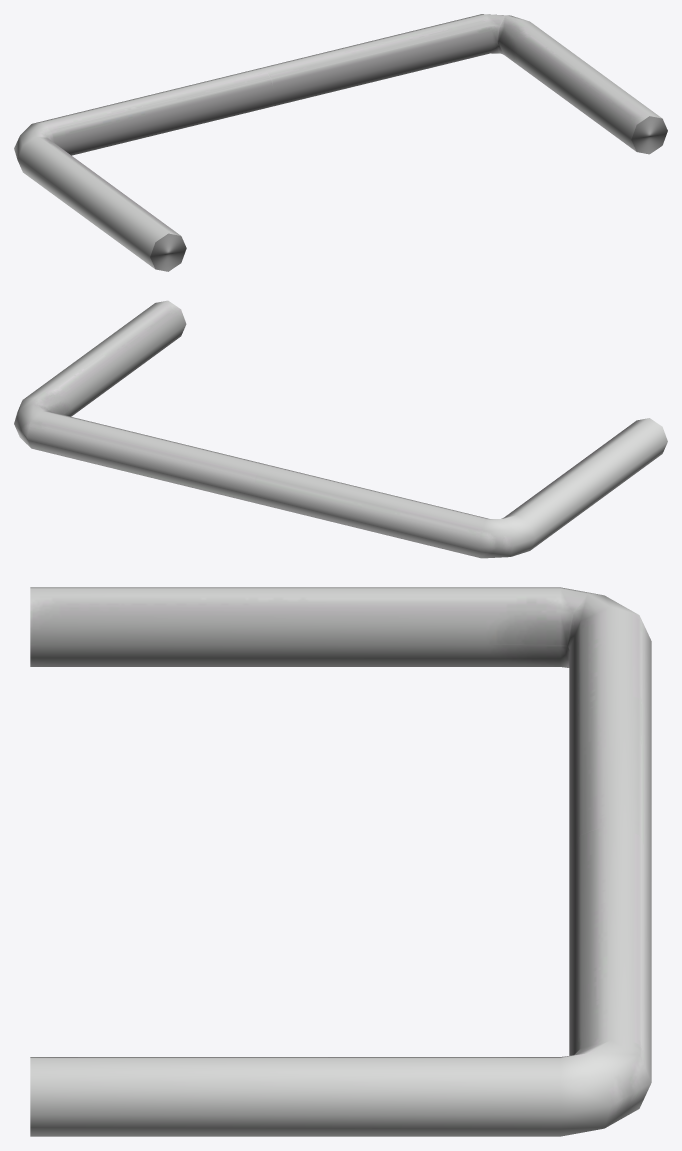
The model's file is SoccerNet.fbx.
3 renders of one model, top to bottom at view 1: azimuth 30°, elevation 25°; view 2: azimuth 150°, elevation 25°; view 3: azimuth 270°, elevation 25°, orthographic. The views are drawn at different scales.
Parts seen in each view (by area): view 1: SoccerGoalPost; view 2: SoccerGoalPost; view 3: SoccerGoalPost.
Part boxes in pixels (x1,y1,x2,y2): SoccerGoalPost: (14,14,667,271); SoccerGoalPost: (14,300,667,558); SoccerGoalPost: (30,587,651,1136).
Size of the model in its own units: 304 by 21.51 by 158.
